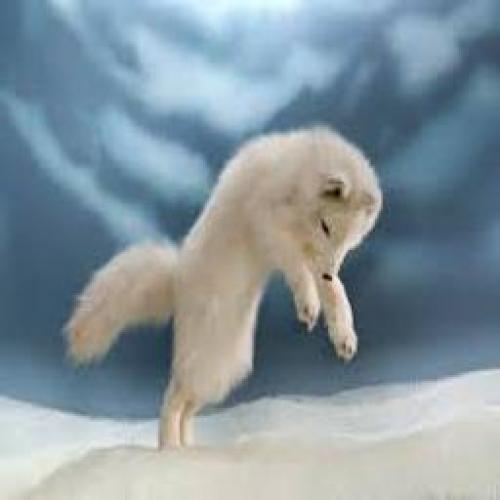arctic_fox-endangered: (70, 127, 384, 457)
